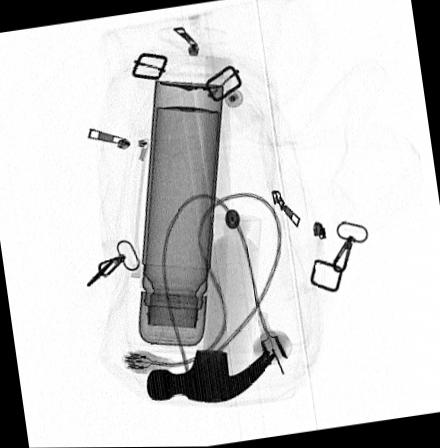Hammer: (145, 54, 276, 405)
